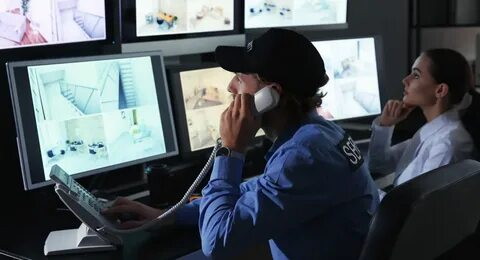awake: (195, 26, 380, 260), (366, 47, 477, 189)
